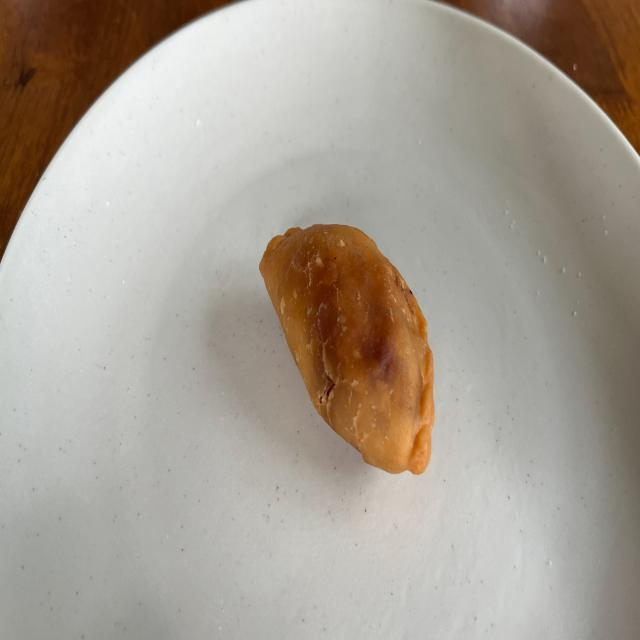karipap: (260, 224, 434, 473)
